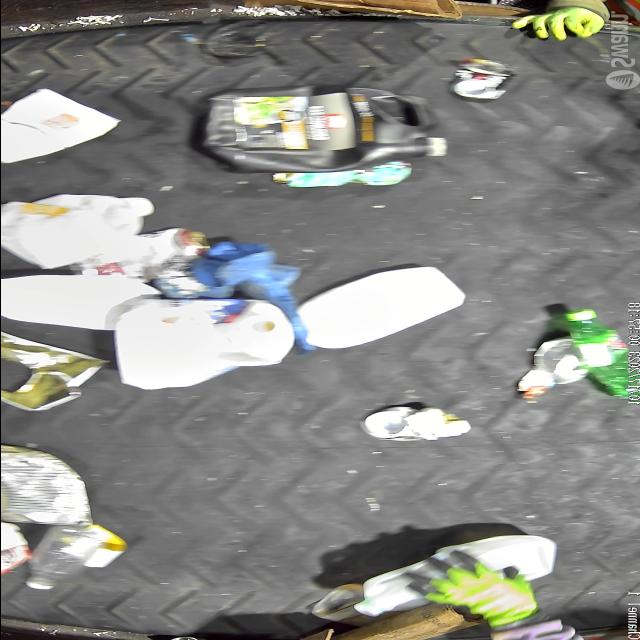can: (0, 444, 95, 527), (362, 403, 464, 443), (451, 58, 518, 100), (160, 636, 256, 640)
milk_jug: (356, 534, 556, 615), (294, 266, 464, 350), (0, 192, 156, 272), (0, 274, 162, 330)
non_white_jug: (196, 84, 446, 172), (112, 296, 296, 390)
plastic_bottle: (25, 520, 127, 588)
